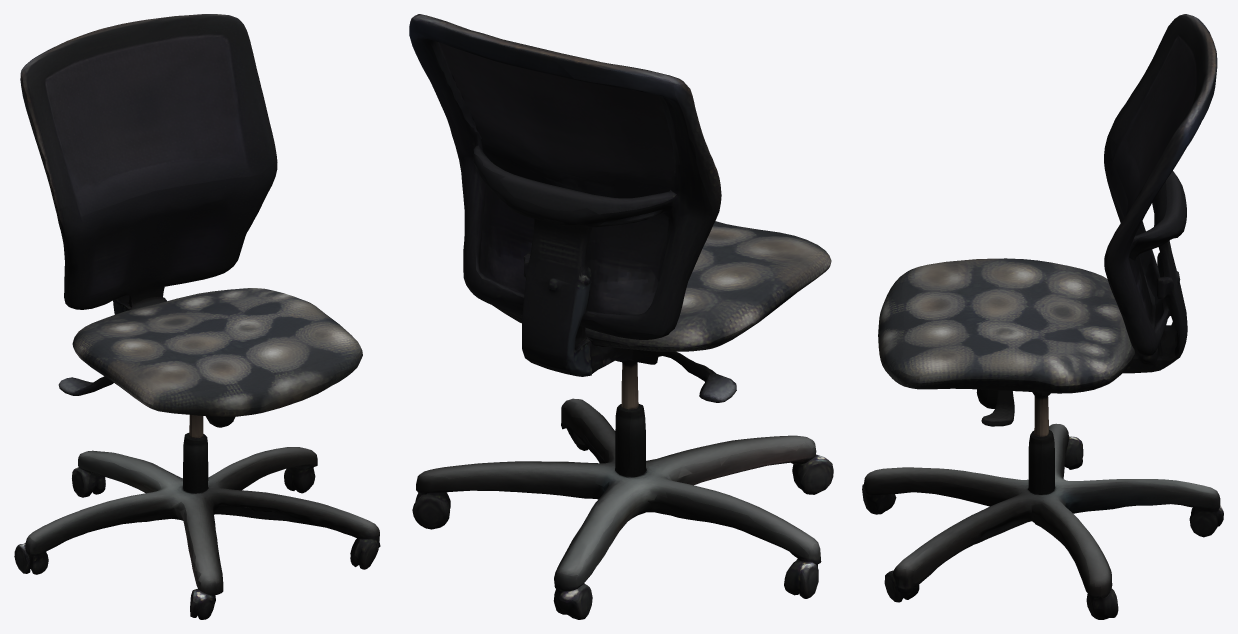
Rendered from CHAIR TEXTURES ProjectRoom 2 AI.obj.
3 renders of one model, left to right at view 1: azimuth 30°, elevation 25°; view 2: azimuth 150°, elevation 25°; view 3: azimuth 270°, elevation 25°, orthographic. The views are drawn at different scales.
Visible parts, largest first — view 1: geometry_0; view 2: geometry_0; view 3: geometry_0.
Part boxes in pixels (bbox=[...]): geometry_0: bbox=[14, 14, 380, 619]; geometry_0: bbox=[409, 14, 833, 619]; geometry_0: bbox=[862, 14, 1223, 619].
Bounding box in the file's own units: 0.7055 × 1 × 0.6688.
